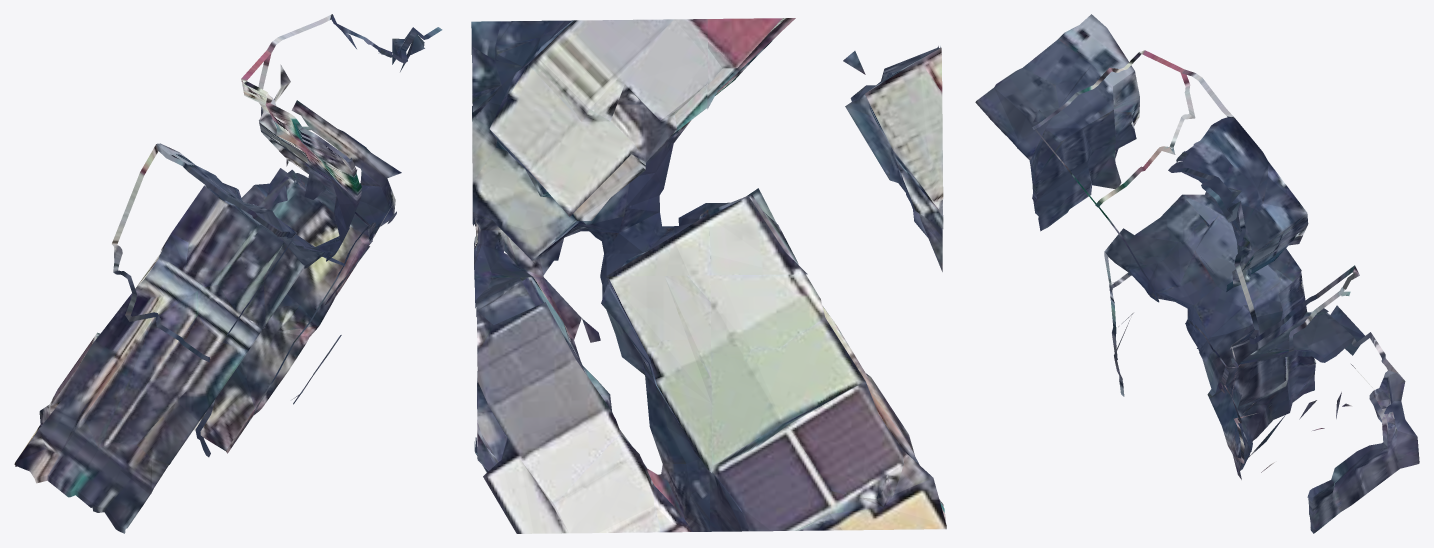
3 views of the same model, side by side, from view 1: azimuth 30°, elevation 25°; view 2: azimuth 150°, elevation 25°; view 3: azimuth 270°, elevation 25° (orthographic). The views are drawn at different scales.
Size of the model in its own units: 41.33 by 40.03 by 38.11.
2 materials, 2 textured.
